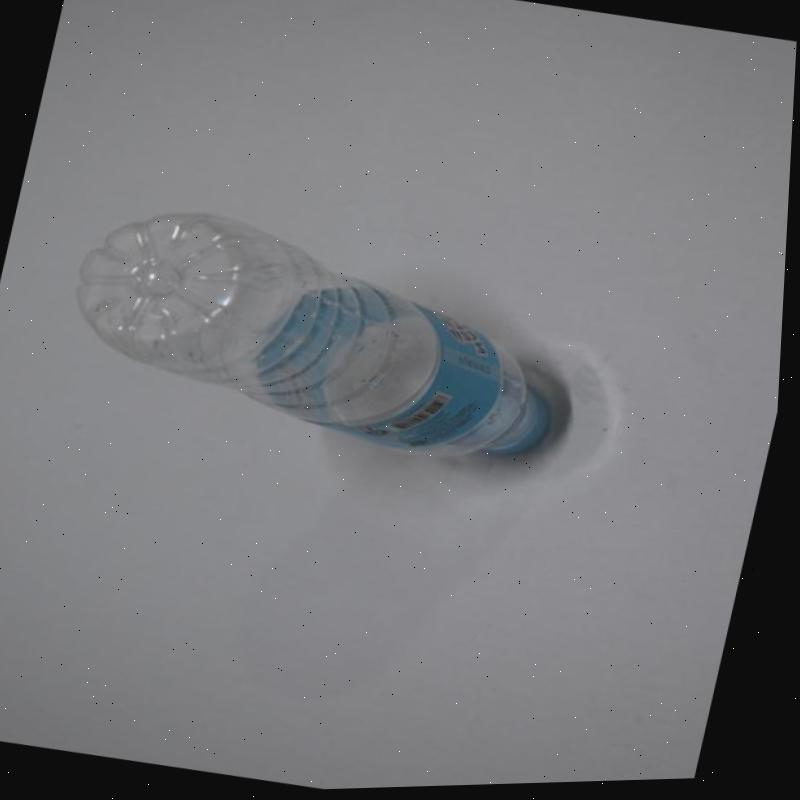botella: (49, 187, 591, 484)
